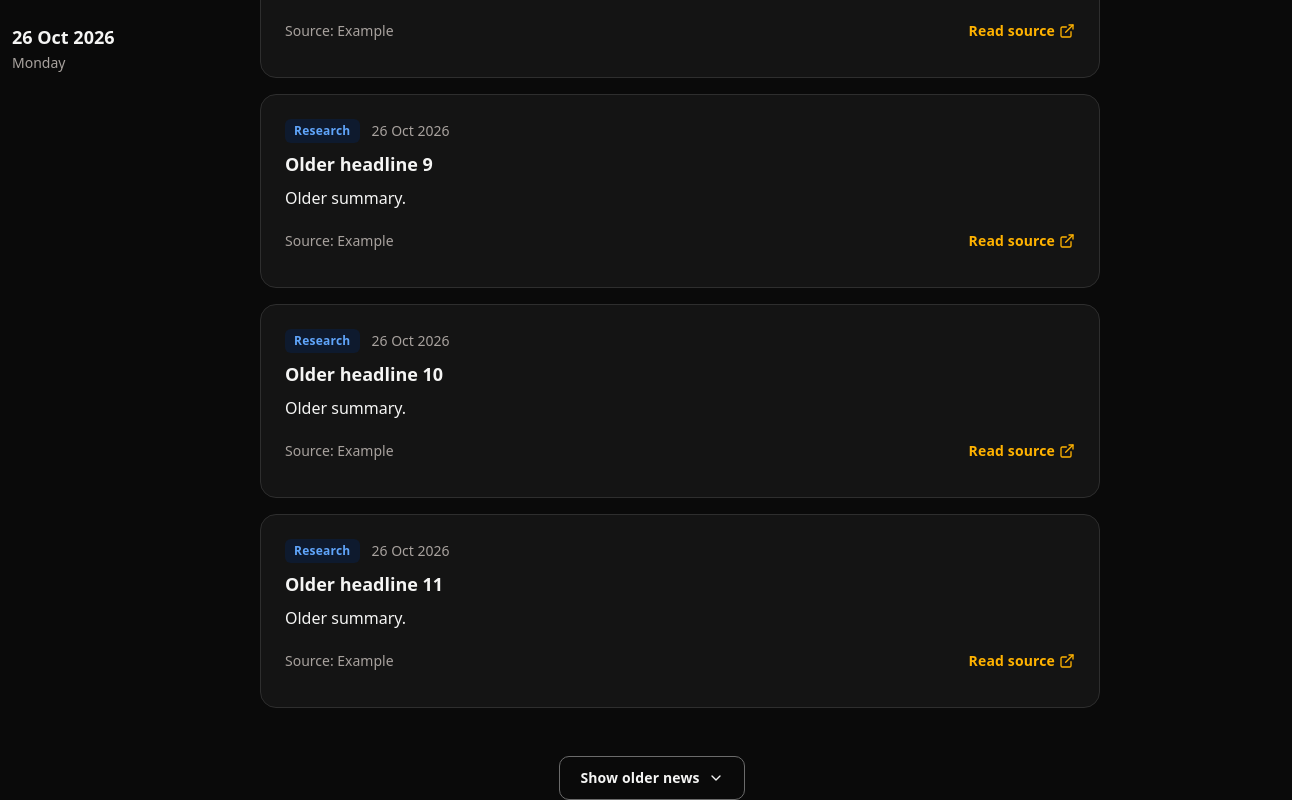
Test: NewsBrowser › shows older stories on request
(page scrolled)
Click the button "Show older news" at x=652, y=778, box 559,756 -> 745,799
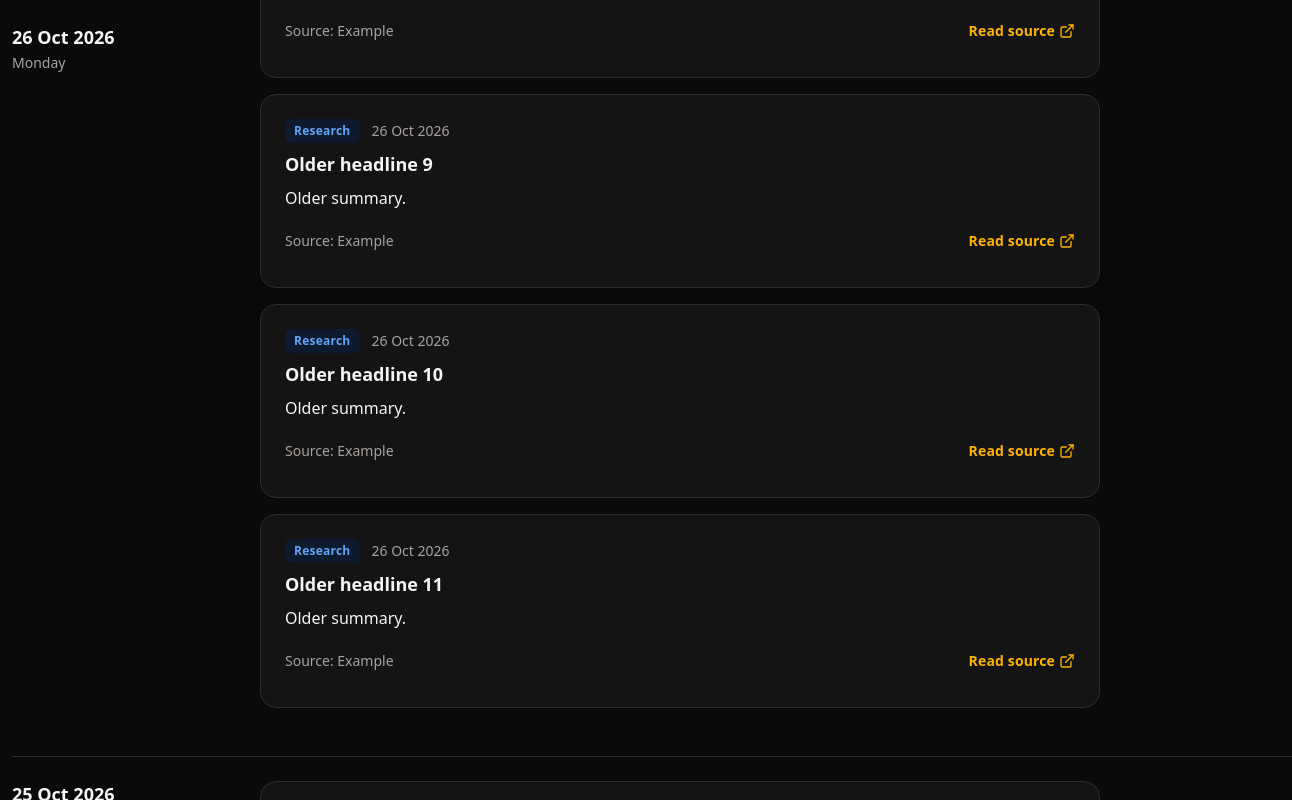
Now the button "Show older news" is gone
